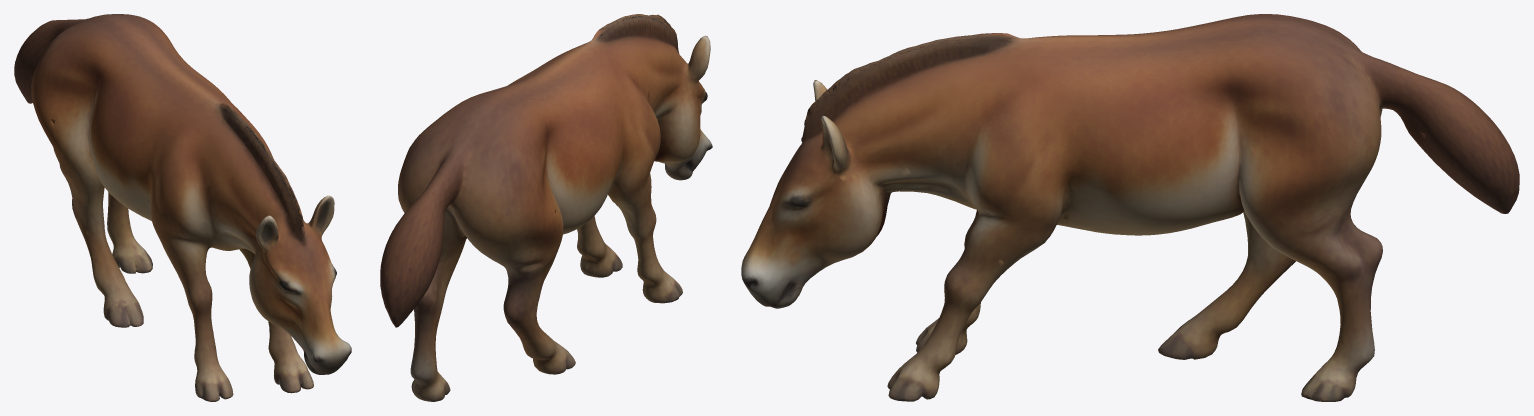
3 views of the same model, side by side, from view 1: azimuth 30°, elevation 25°; view 2: azimuth 150°, elevation 25°; view 3: azimuth 270°, elevation 25° (orthographic). The views are drawn at different scales.
Visible parts, largest first — view 1: world; view 2: world; view 3: world.
Part boxes in pixels (box(x1,y1,x2,y2)): world: box(14, 14, 351, 401); world: box(380, 14, 712, 401); world: box(741, 14, 1519, 401).
Bounding box in the file's own units: 0.3087 × 0.5946 × 1.2.
Materials: 1 (1 with a texture image).
